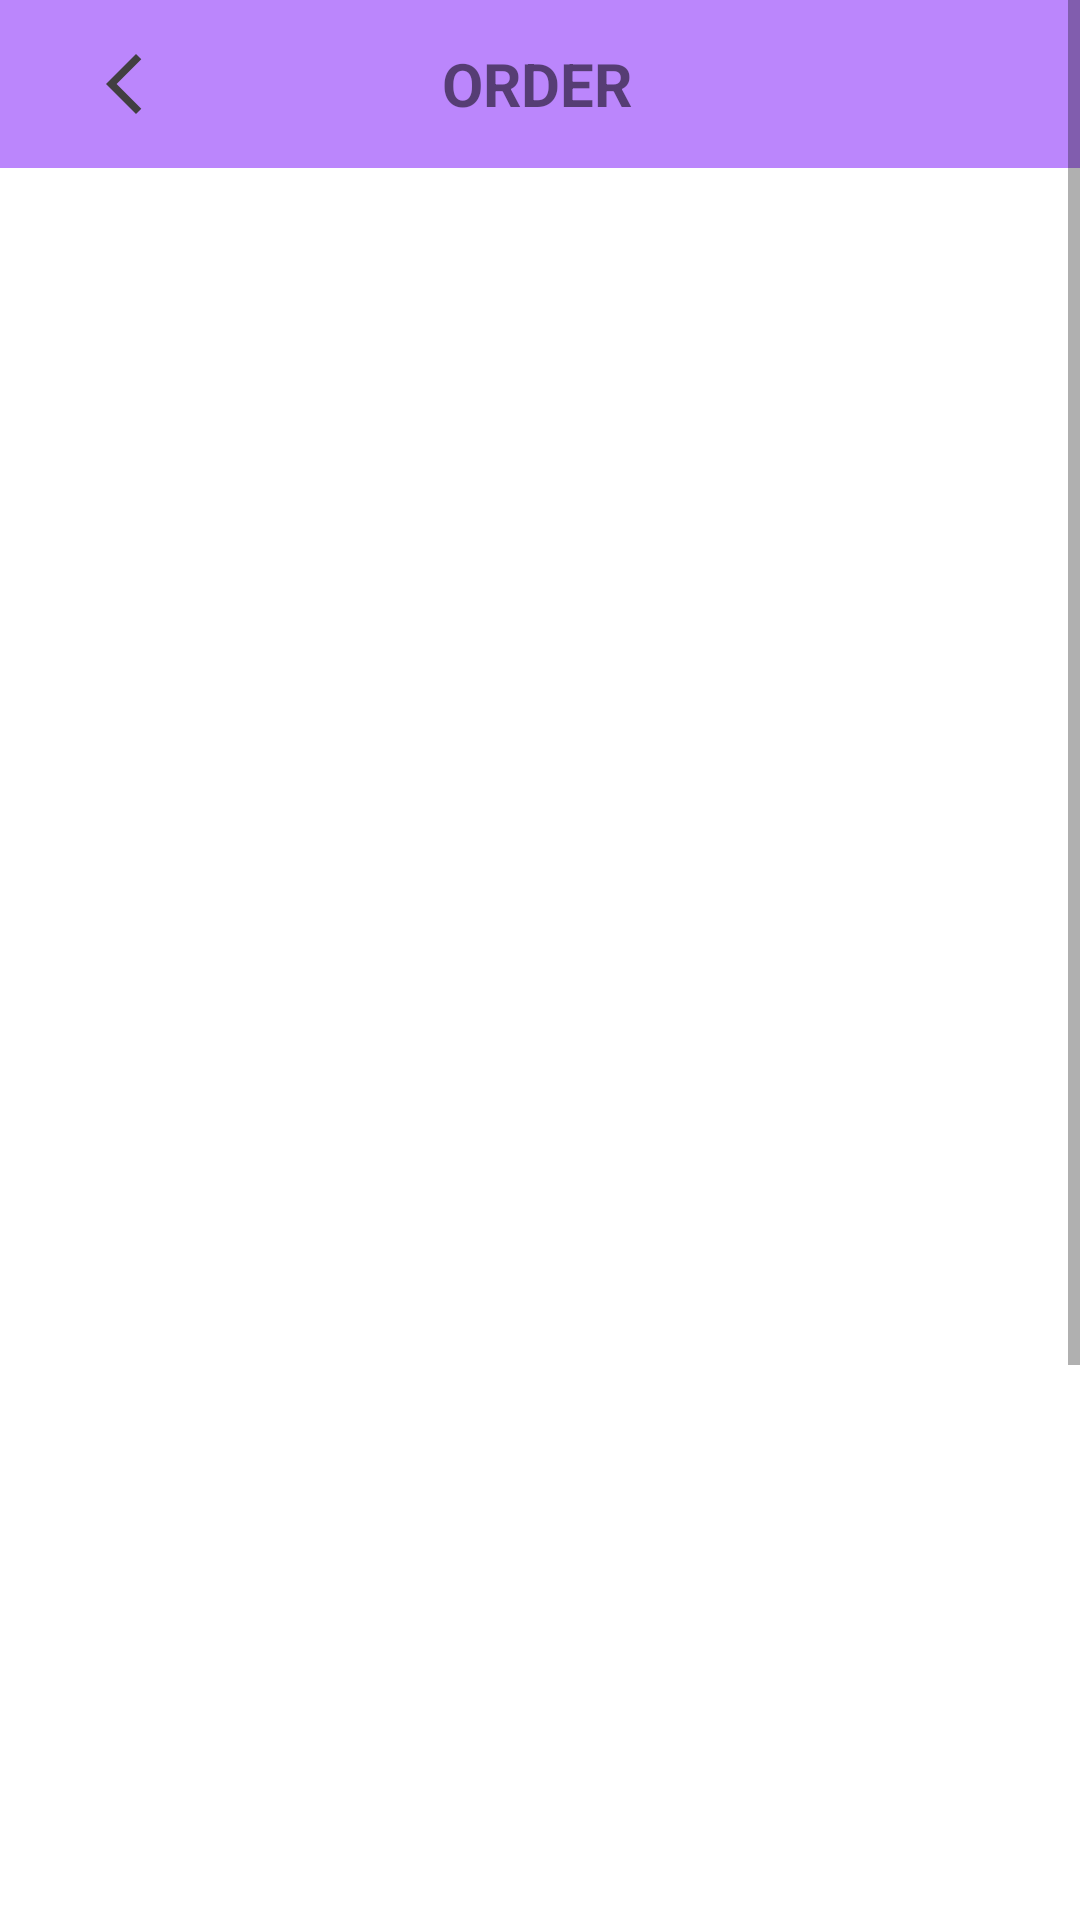

Screen size 1080 × 1920. Icon name, then its box in pixels as [x1, y1, x2, y2]:
before: [106, 54, 141, 114]
